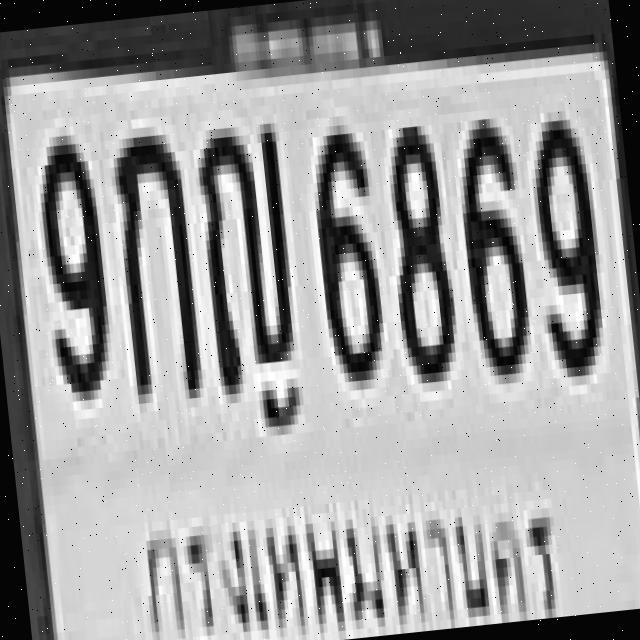10GorGai: (106, 124, 200, 394)
22YorYing: (190, 110, 298, 390)
6: (448, 108, 530, 368), (302, 114, 383, 374)
8: (376, 116, 456, 376)
9: (29, 124, 111, 393), (522, 110, 602, 370)
Bangkok: (126, 448, 583, 640)
